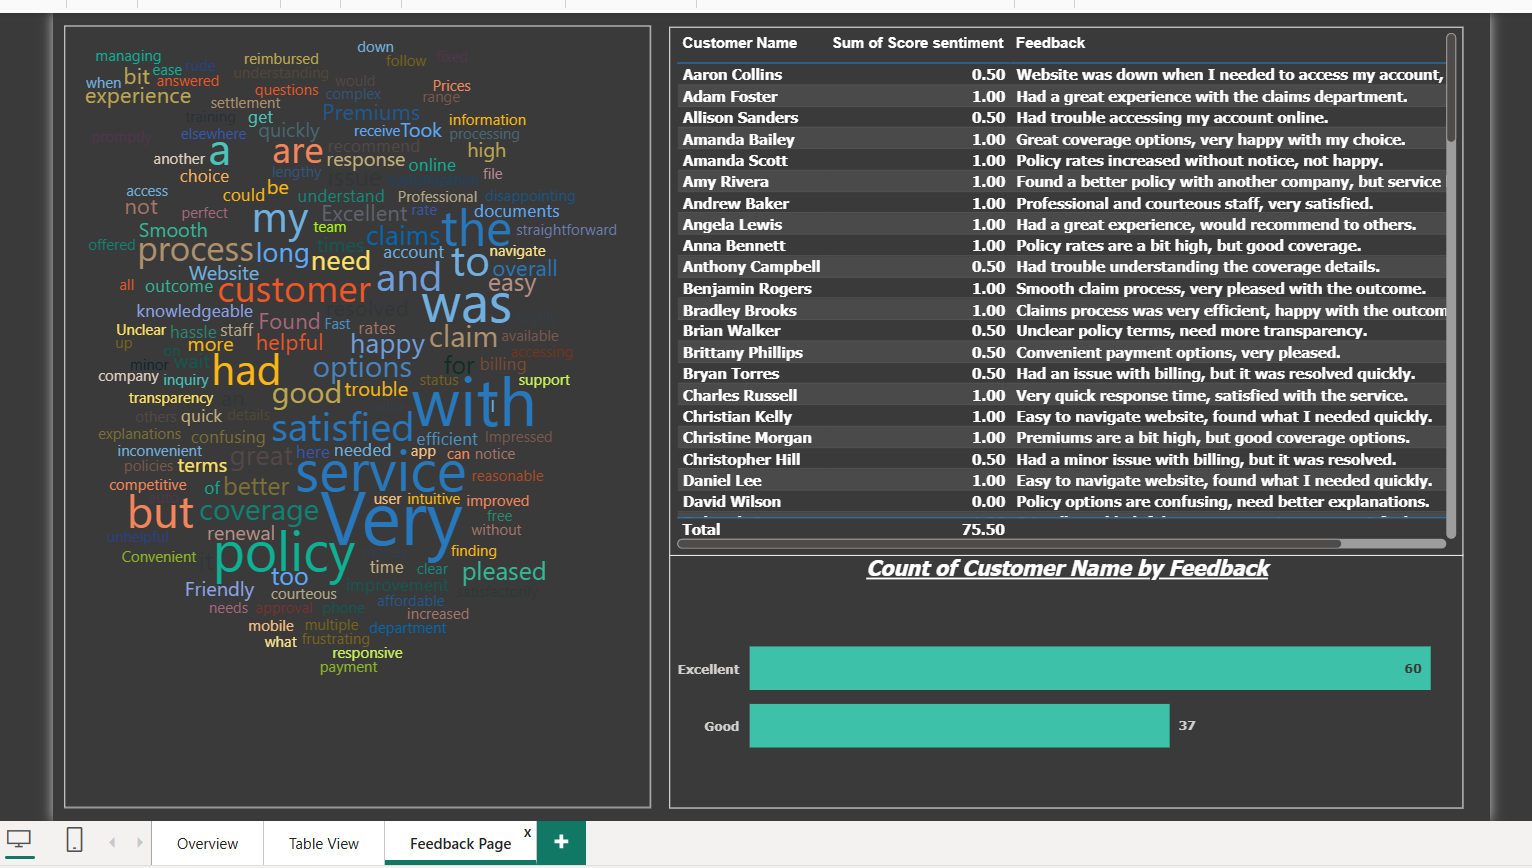

The page's visual inventory and layout, read from the dashboard file:
{"tool":"powerbi","page":{"name":"Feedback","canvas":[1280,720],"ordinal":2},"visuals":[{"type":"WordCloud1447959067750","fields":{"Category":["Sheet1 (2).Feedback"],"Values":["Min(Sheet1 (2).Feedback)"]},"box":[10.5,11.6,522.1,696.5],"z":0},{"type":"barChart","title":"Count of Customer Name by Feedback","fields":{"Category":["Sheet1 (2).Good/Improvement"],"Y":["CountNonNull(Sheet1 (2).Customer Name)"]},"box":[548.8,482.6,707,226.7],"z":1000},{"type":"tableEx","fields":{"Values":["Sheet1 (2).Customer Name","Sum(Sheet1 (2).Score sentiment)","Sheet1 (2).Feedback"]},"box":[549,12,707,471],"z":2000}]}

Visuals, with their boxes on the page's 1280x720 design canvas (x1, y1, x2, y2). These are canvas units, not pixel positions in the 1532x868 screenshot, which may show the page scaled, cropped or inside an application window:
WordCloud1447959067750 - Sheet1 (2).Feedback x Min(Sheet1 (2).Feedback): BBox(10, 12, 533, 708)
"Count of Customer Name by Feedback" barChart: BBox(549, 483, 1256, 709)
tableEx - Sheet1 (2).Customer Name x Sum(Sheet1 (2).Score sentiment): BBox(549, 12, 1256, 483)
